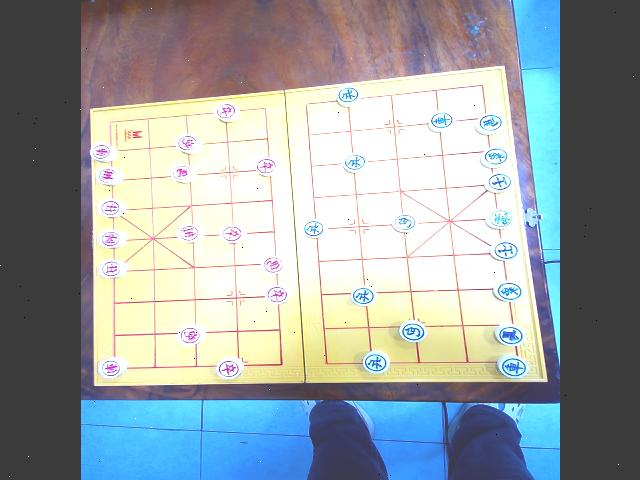piece: (497, 355, 528, 378), (495, 324, 526, 345), (493, 281, 524, 301), (363, 351, 390, 373), (216, 357, 243, 379), (481, 147, 509, 168), (475, 113, 503, 134), (399, 321, 426, 342), (99, 357, 127, 377), (178, 325, 206, 345), (485, 210, 514, 229), (427, 112, 454, 132), (175, 134, 202, 154), (484, 173, 512, 192), (490, 241, 518, 260), (336, 85, 360, 107), (99, 260, 128, 278), (90, 143, 117, 162), (215, 102, 240, 122), (351, 286, 376, 306), (265, 285, 291, 304), (255, 157, 281, 176), (177, 225, 204, 243), (170, 164, 197, 182), (96, 167, 123, 185), (342, 153, 367, 172), (261, 256, 287, 274), (221, 225, 247, 243), (99, 200, 126, 217), (99, 230, 126, 247), (303, 219, 327, 238), (392, 214, 416, 232)
